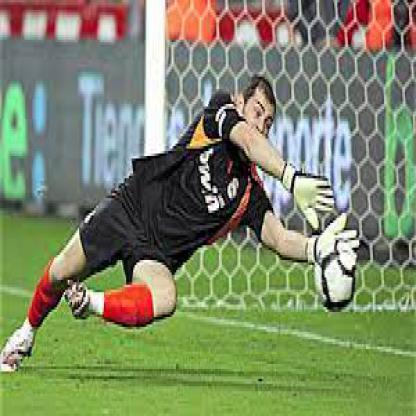goal: (238, 36, 367, 360)
